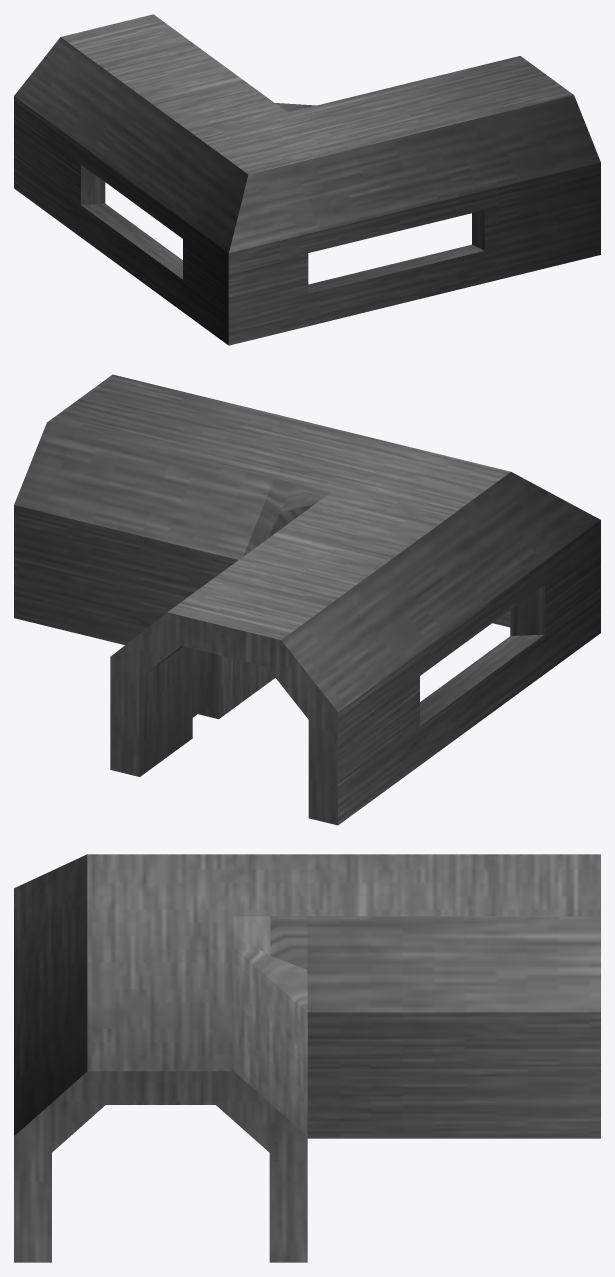
File: HallwayCornerPiece 2 Windows 1.fbx
The picture shows the model from 3 angles, top to bottom: view 1: azimuth 30°, elevation 25°; view 2: azimuth 150°, elevation 25°; view 3: azimuth 270°, elevation 25°; orthographic projection. The views are drawn at different scales.
Visible parts, largest first — view 1: HallwayCornerPieceWindowed; view 2: HallwayCornerPieceWindowed; view 3: HallwayCornerPieceWindowed.
Boxes of the visible parts, x1,y1,x2,y2 form: HallwayCornerPieceWindowed: (14, 14, 600, 345); HallwayCornerPieceWindowed: (14, 374, 600, 825); HallwayCornerPieceWindowed: (14, 854, 600, 1262).
Size of the model in its own units: 800 by 288 by 800.
1 material, 1 textured.
